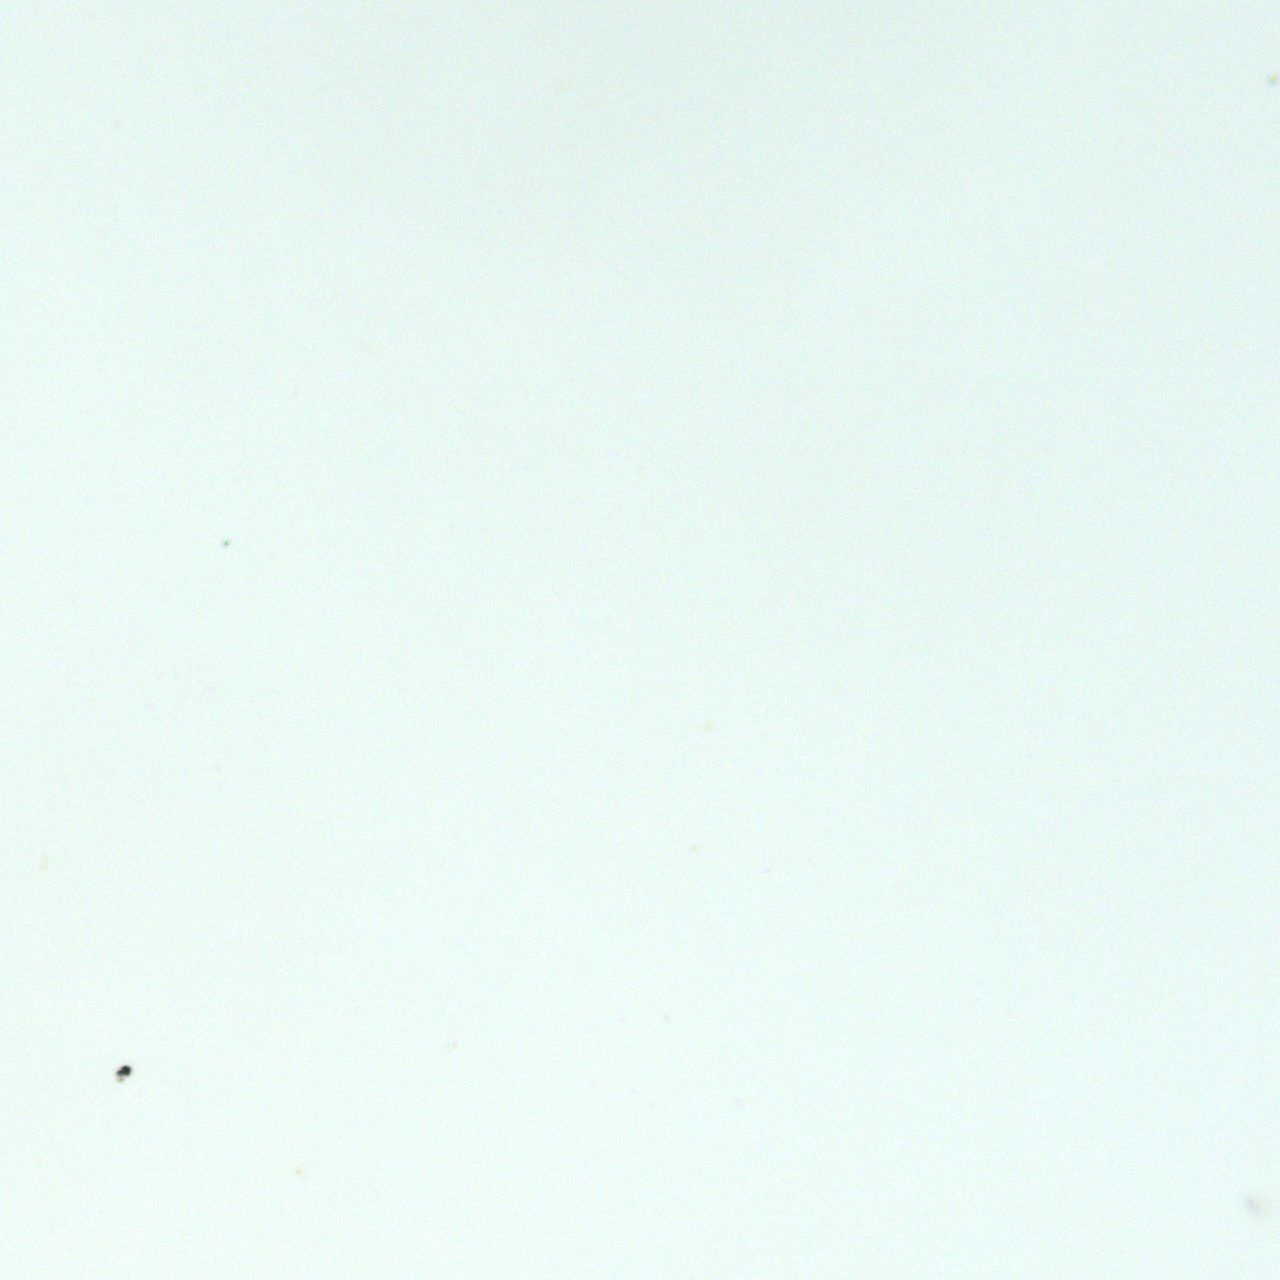dust: (115, 1064, 132, 1078), (219, 537, 230, 547)
